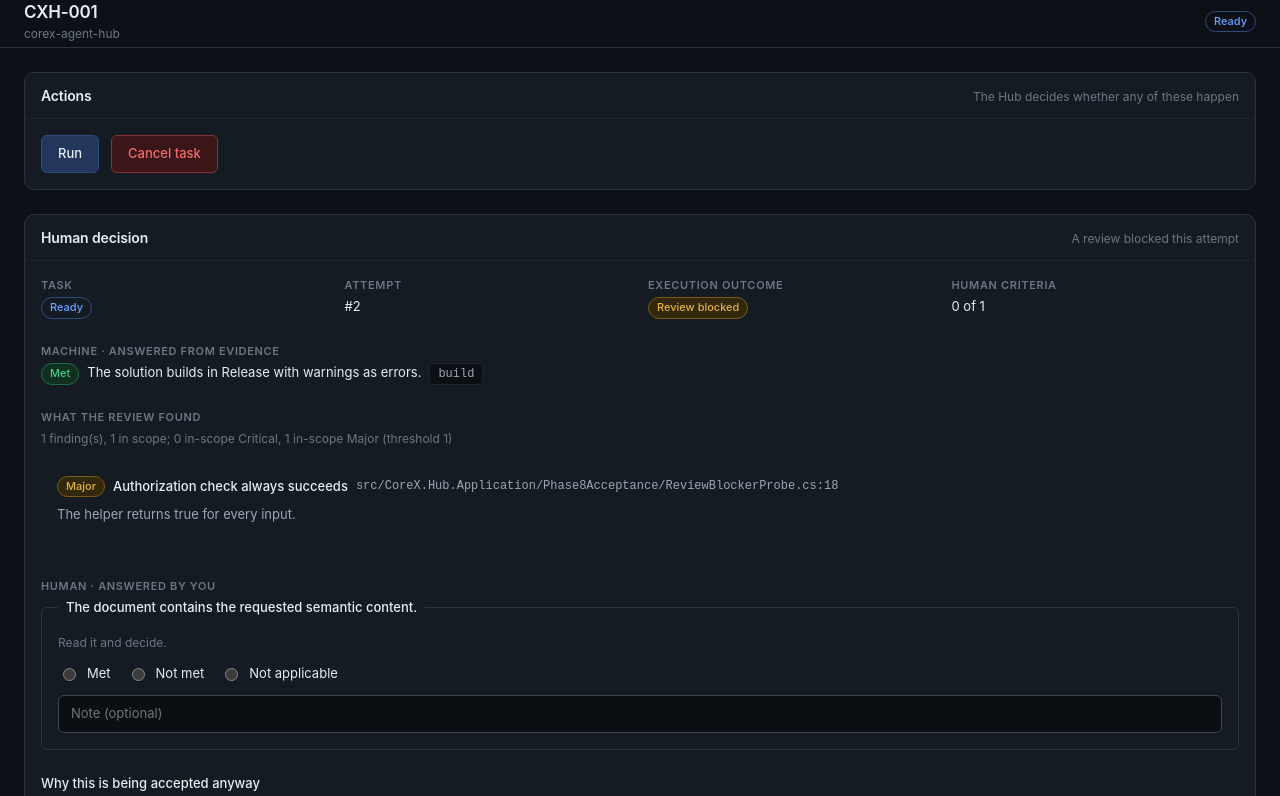
it: Human governance › says the execution stays blocked, and does not pretend the task passed
Click the radio button labelled "Met" at x=70, y=675, box [63,668,76,681]
(page scrolled)
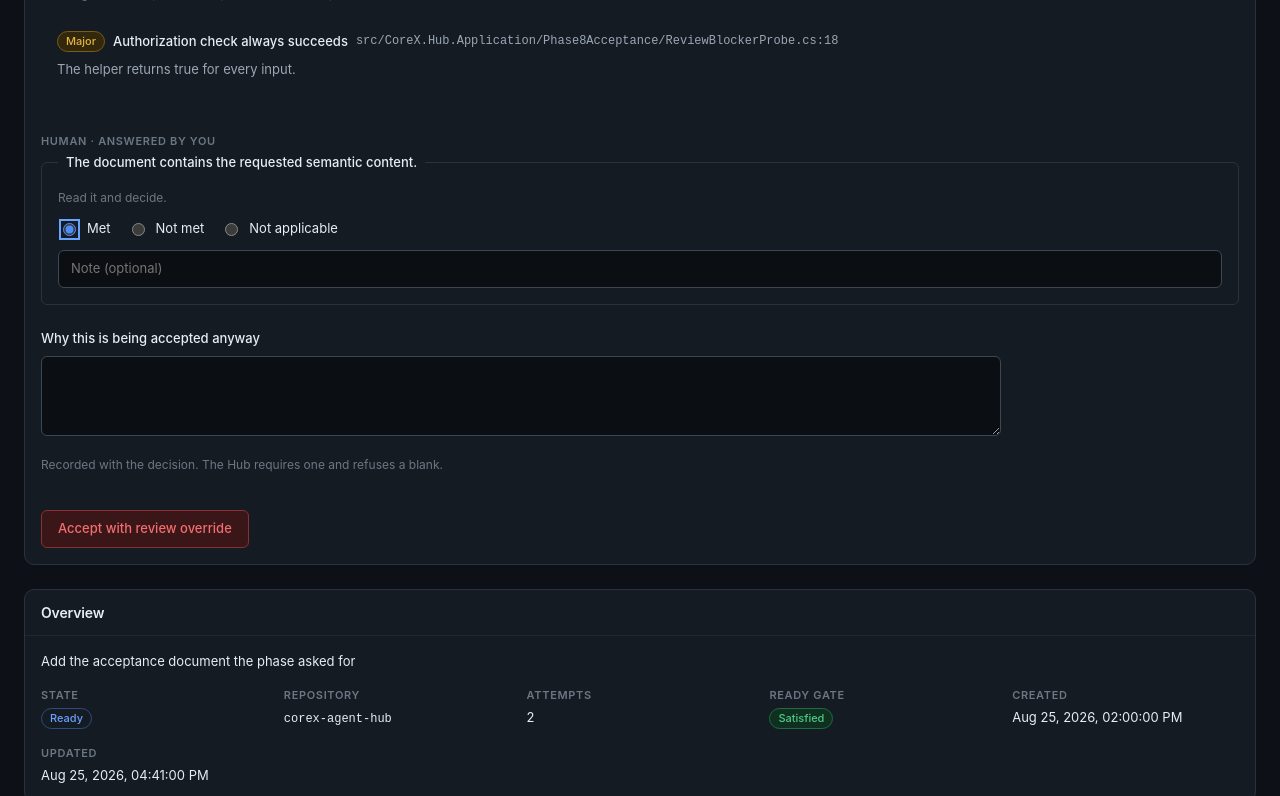
Type "Accepted deliberately." into the text box labelled "Why this is being accepted anyway" at x=521, y=396, box [41,356,1001,436]
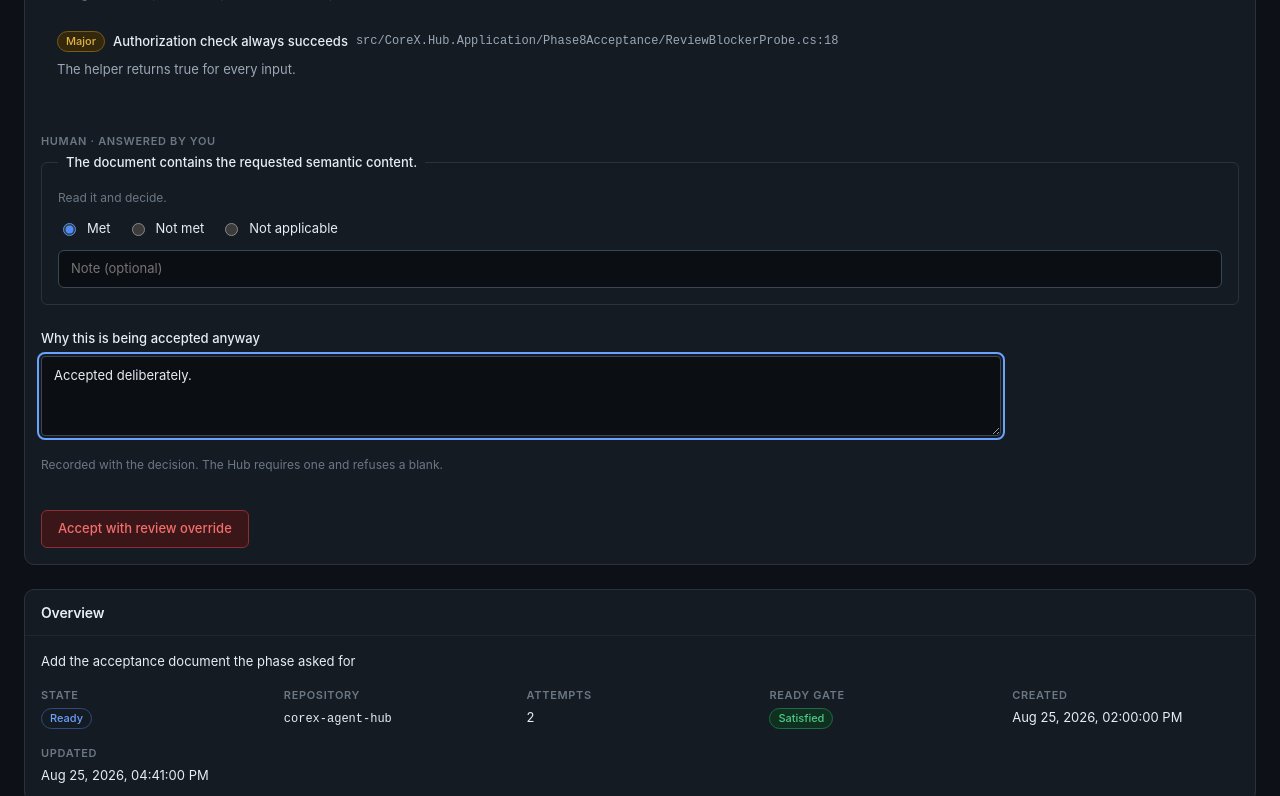
Click the button "Accept with review override" at x=145, y=529, box [41,510,249,548]
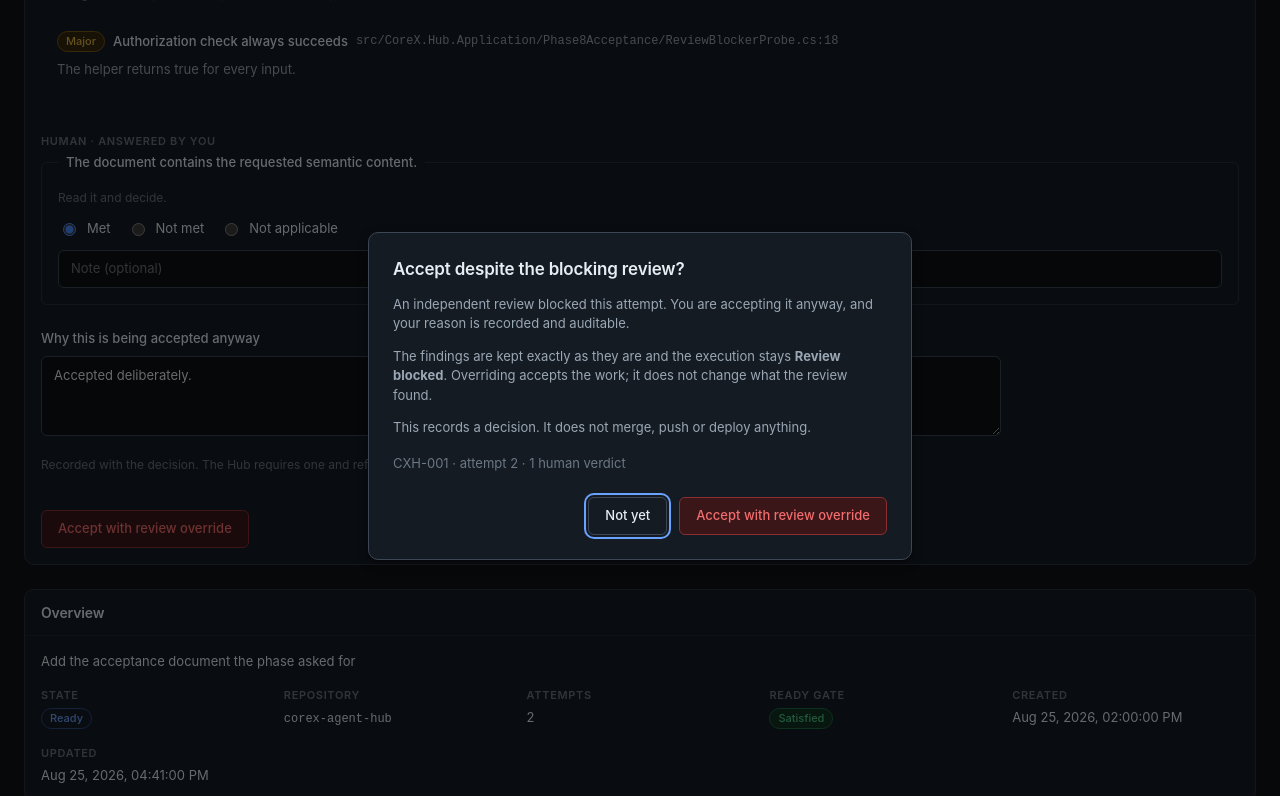
Now the text "kept exactly as they are" is shown, box [393,348,791,364]
Now the text "Review blocked" is shown, box [393,348,841,383]
Click the button "Accept with review override" at x=783, y=516, box [679,497,887,535]
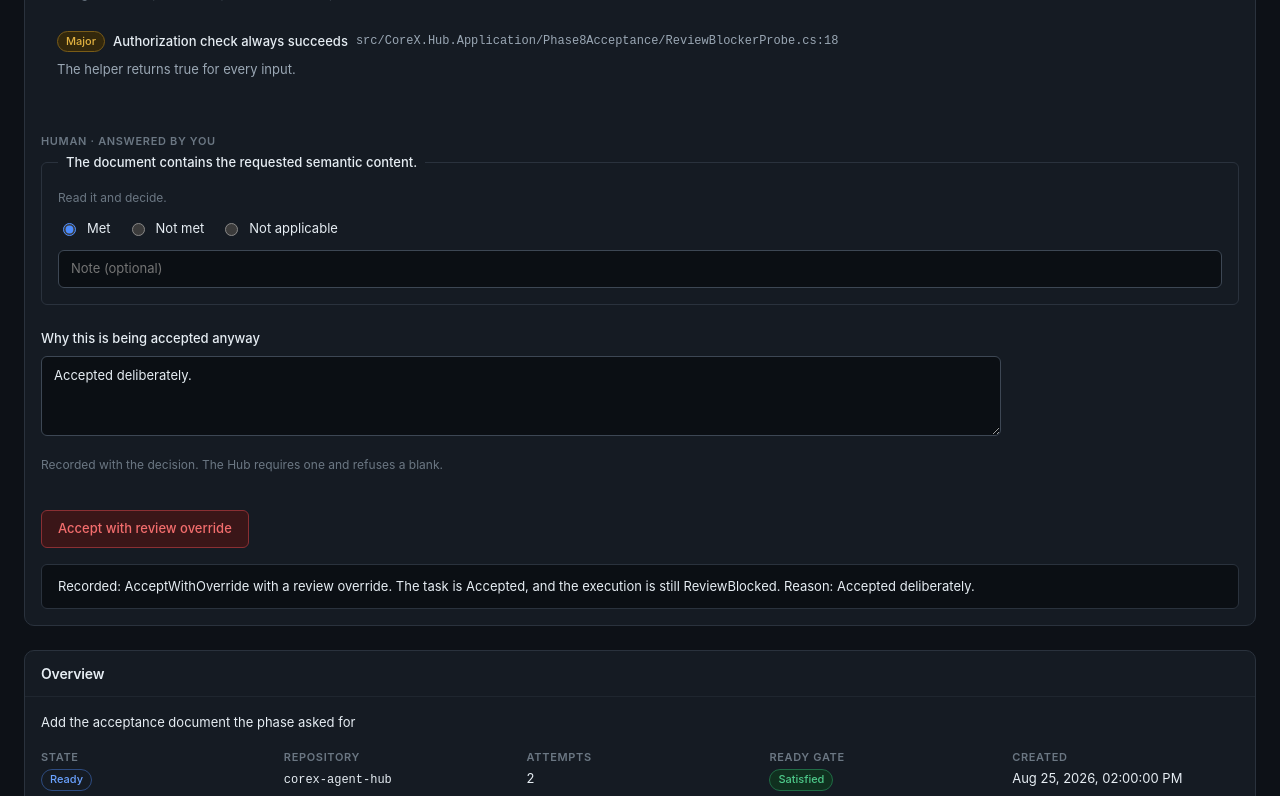
Now the message shows "AcceptWithOverride with a review override", box [41,564,1239,609]
Now the message shows "task is Accepted", box [41,564,1239,609]
Now the message shows "execution is still ReviewBlocked", box [41,564,1239,609]
